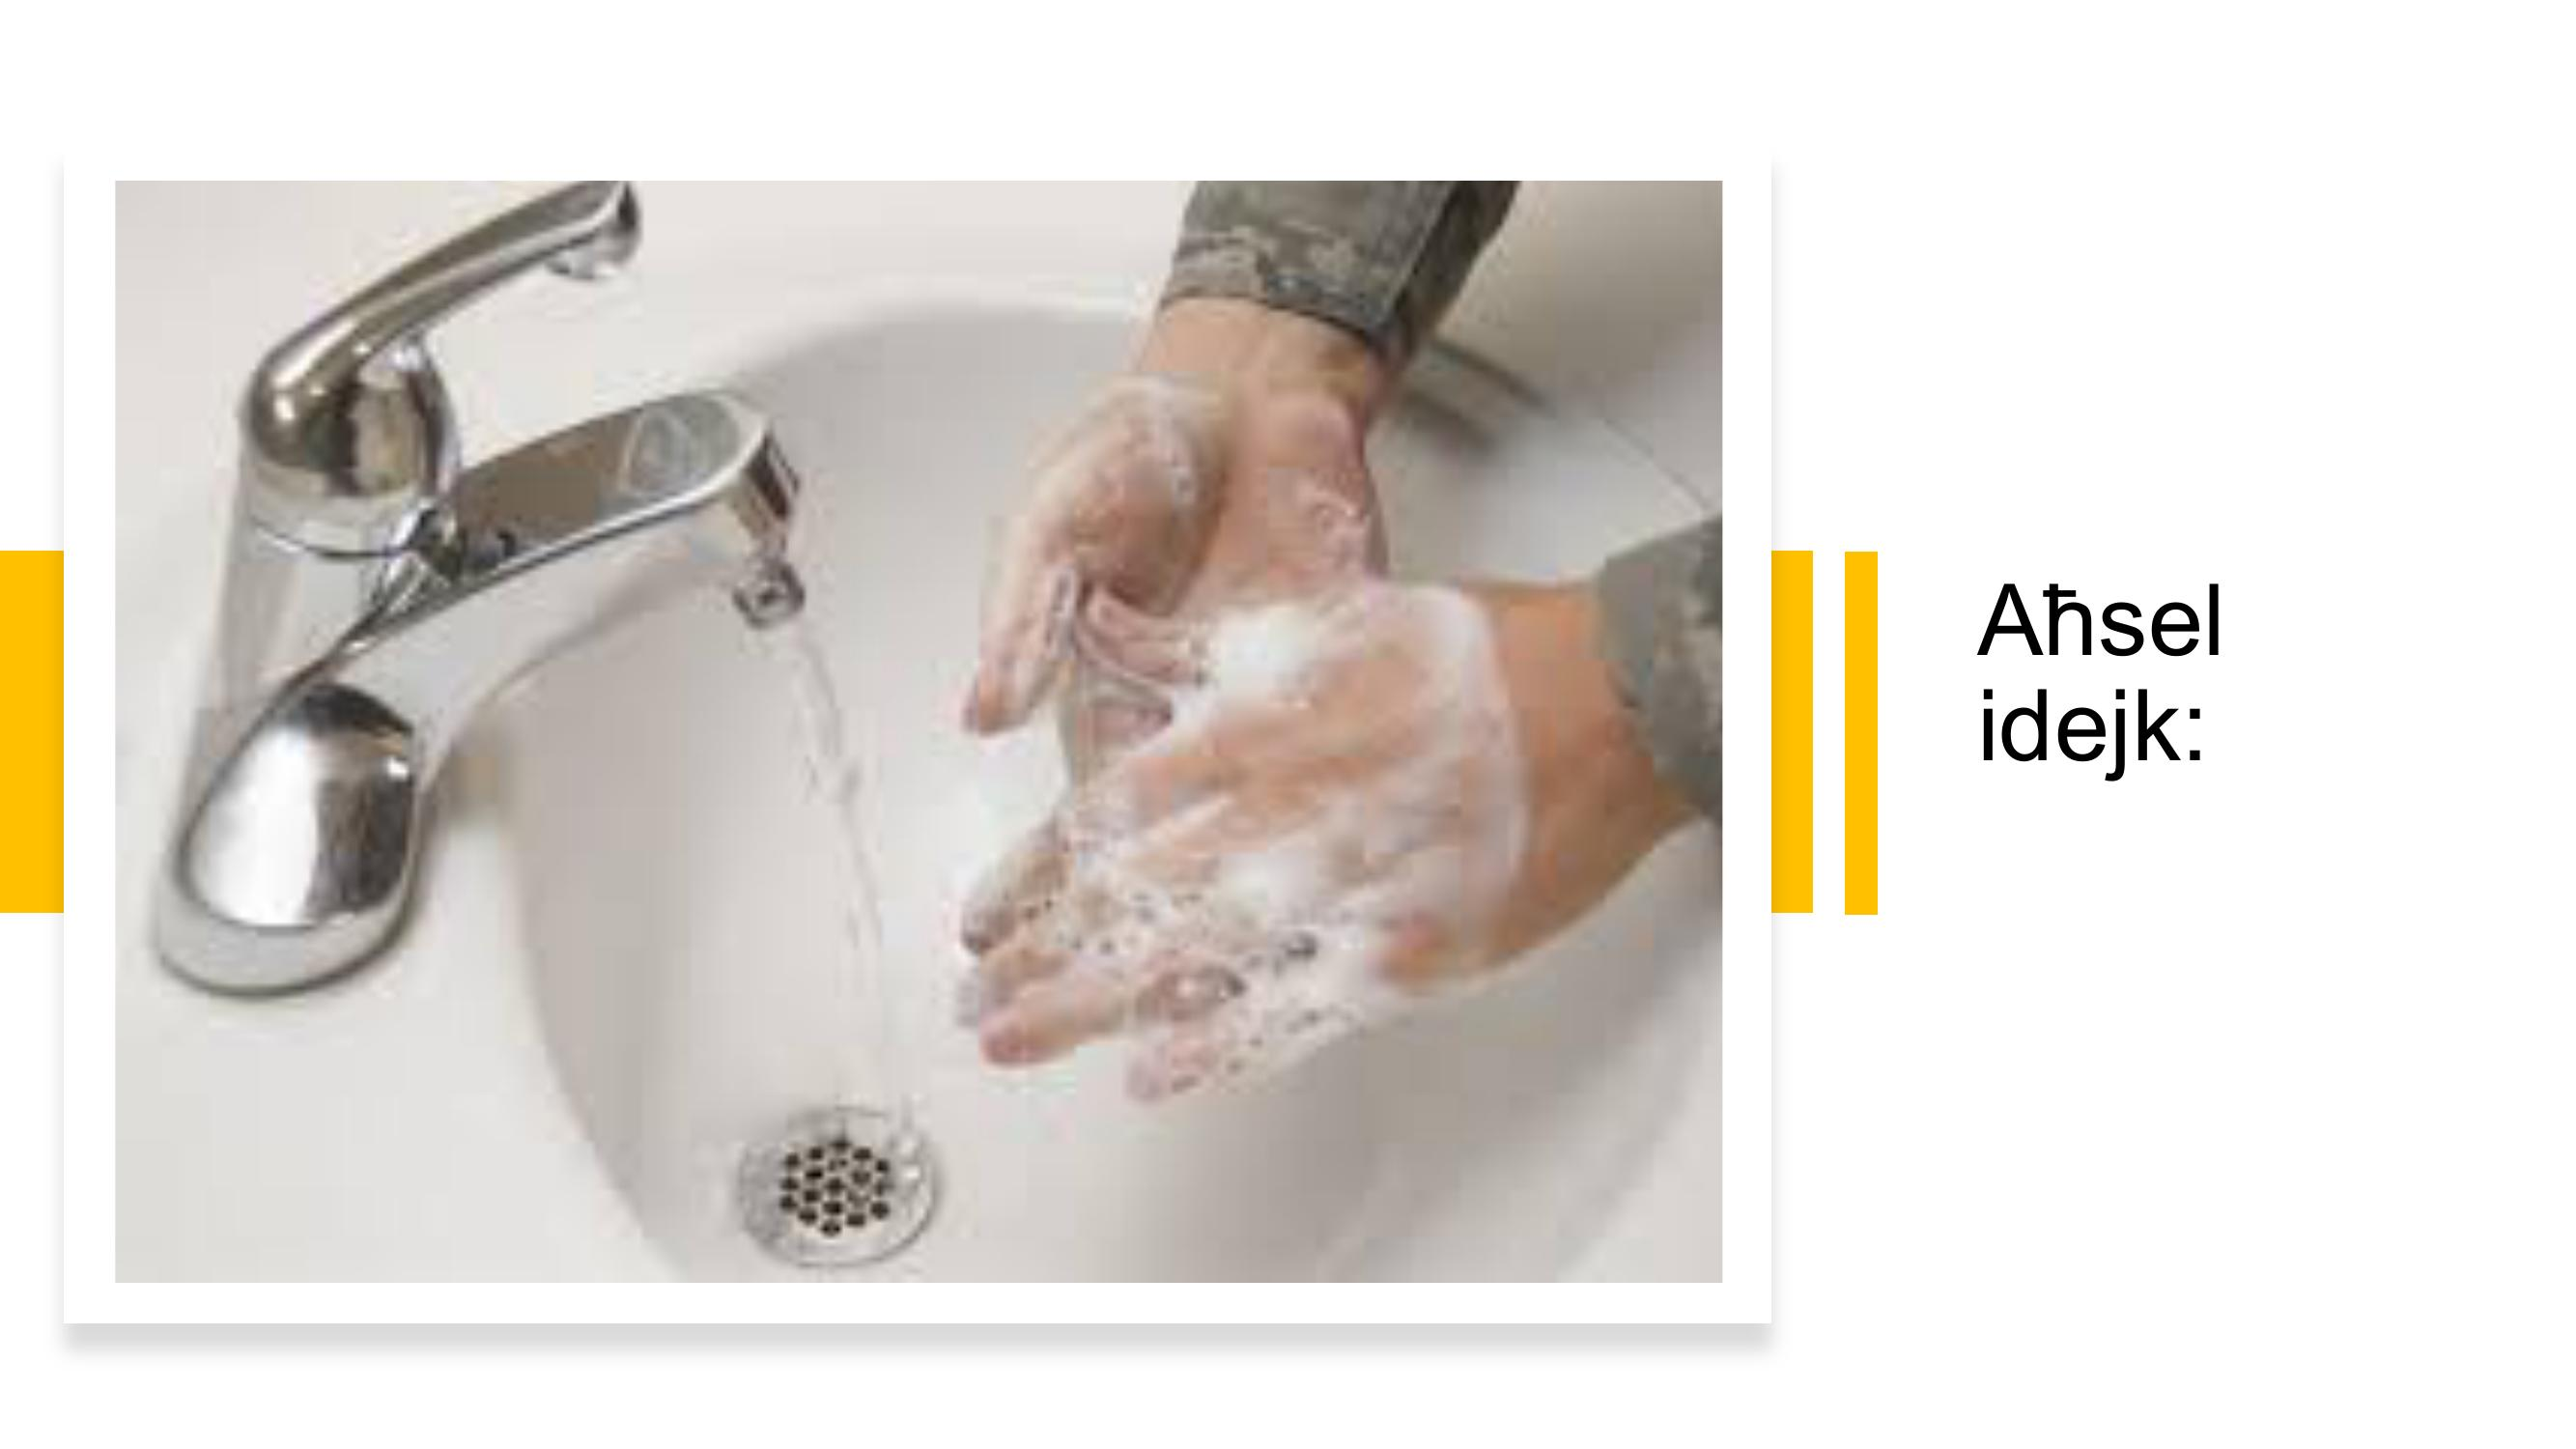text: (1953, 545, 2259, 824)
